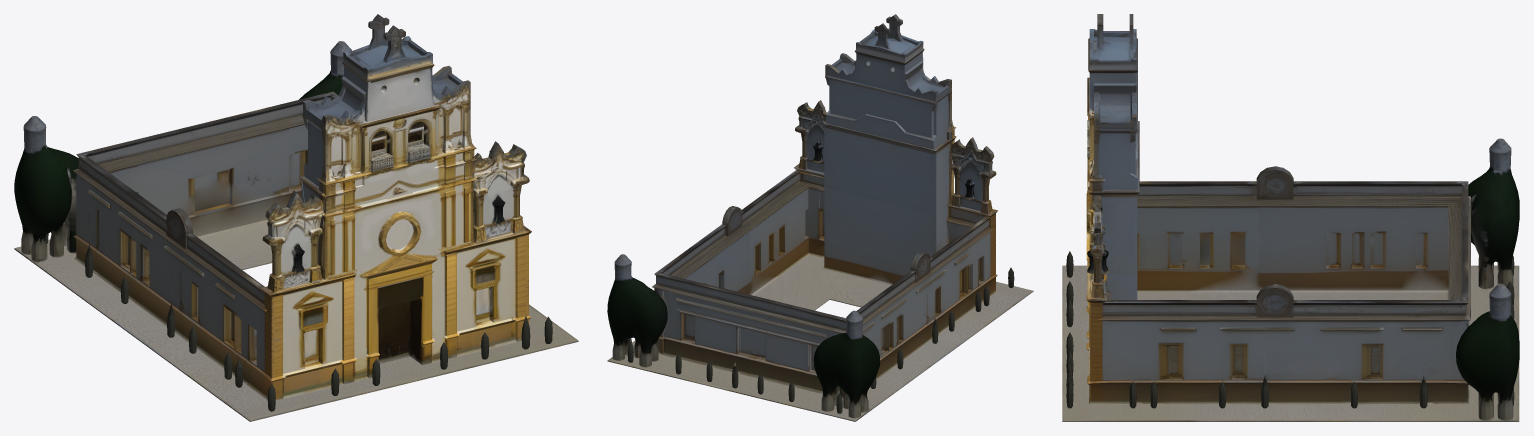
Rendered from IglesiaAlta.fbx.
3 views of the same model, side by side, from view 1: azimuth 30°, elevation 25°; view 2: azimuth 150°, elevation 25°; view 3: azimuth 270°, elevation 25° (orthographic). The views are drawn at different scales.
Parts seen in each view (by area): view 1: mesh_rep_0_ori_repair_quad.001; view 2: mesh_rep_0_ori_repair_quad.001; view 3: mesh_rep_0_ori_repair_quad.001.
Part boxes in pixels (bbox=[...]): mesh_rep_0_ori_repair_quad.001: bbox=[14, 14, 578, 421]; mesh_rep_0_ori_repair_quad.001: bbox=[607, 14, 1033, 421]; mesh_rep_0_ori_repair_quad.001: bbox=[1062, 14, 1519, 421].
Size of the model in its own units: 105 by 99.44 by 125.
